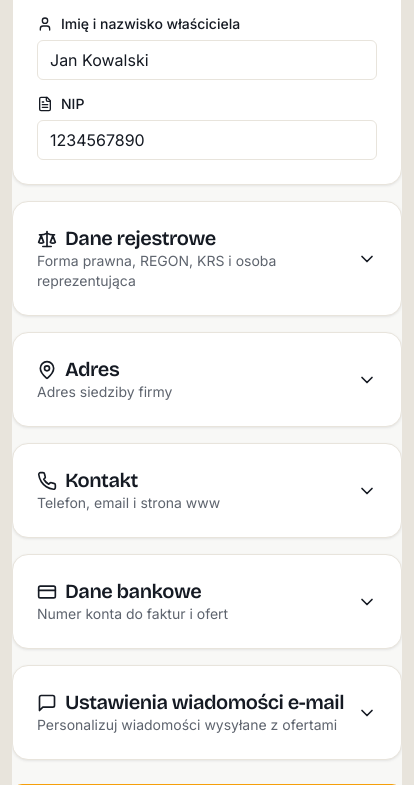
Test: CompanyProfile › form pre-population › should pre-populate phone from loaded profile
The image size is (414, 785).
(page scrolled)
Otwórz sekcję Kontakt (domyślnie zamknięta)
Click the heading "Kontakt": (87, 480) [37,468,138,492]
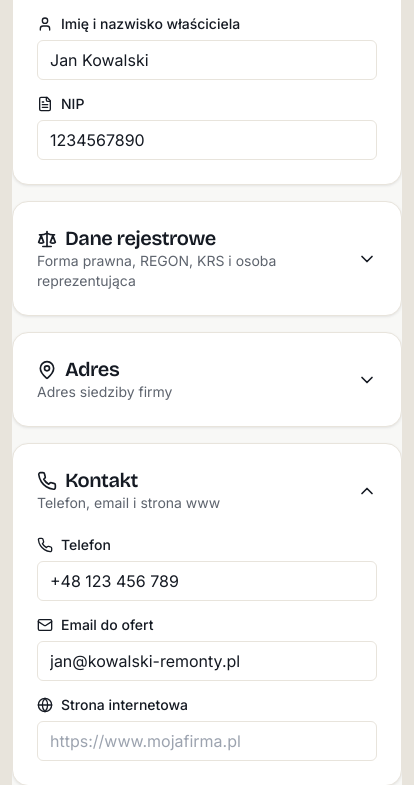
Expected: the field showing "+48 123 456 789" is shown, [37,561,377,601]
